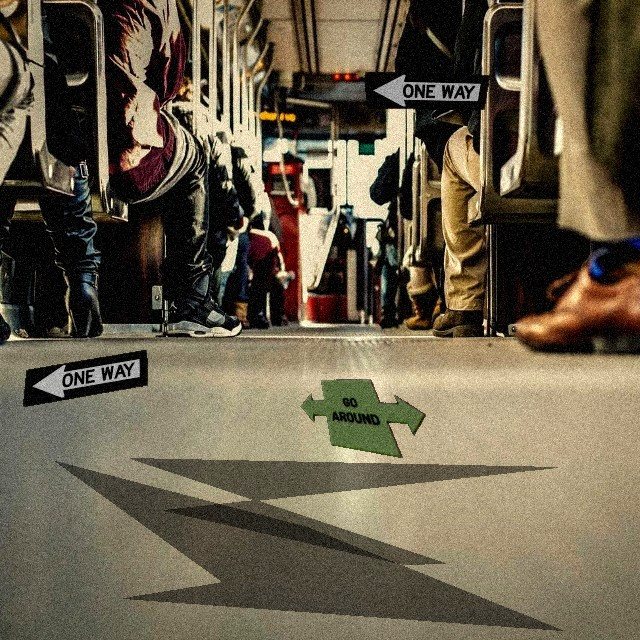GO_AROUND: (300, 378, 426, 458)
ONE_WAY_ left: (22, 349, 148, 407), (364, 71, 490, 110)
